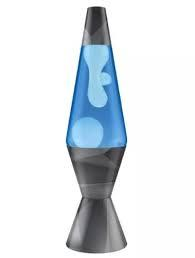Lamp: (63, 4, 130, 253)
